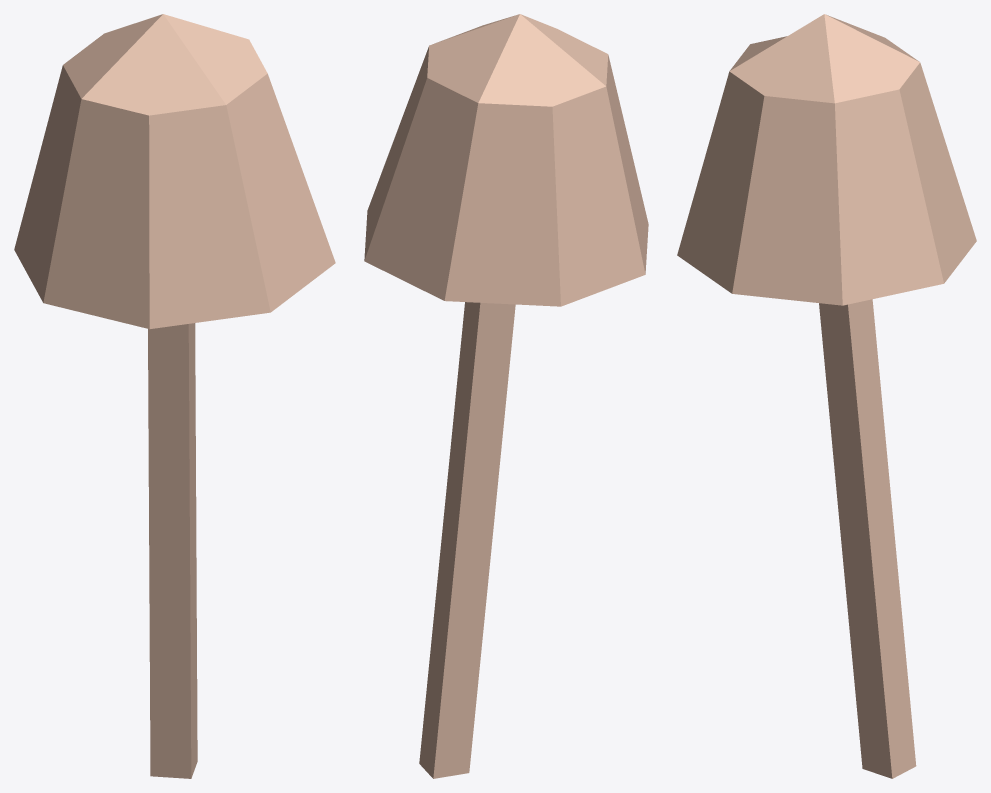
File: Mushroom_b_03.fbx
3 views of the same model, side by side, from view 1: azimuth 30°, elevation 25°; view 2: azimuth 150°, elevation 25°; view 3: azimuth 270°, elevation 25° (orthographic). The views are drawn at different scales.
Parts seen in each view (by area): view 1: Mushroom_b_03; view 2: Mushroom_b_03; view 3: Mushroom_b_03.
Boxes of the visible parts, x1,y1,x2,y2 form: Mushroom_b_03: (14,14,335,778); Mushroom_b_03: (364,14,648,778); Mushroom_b_03: (677,14,976,778).
Size of the model in its own units: 8.84 by 23.87 by 8.85.
